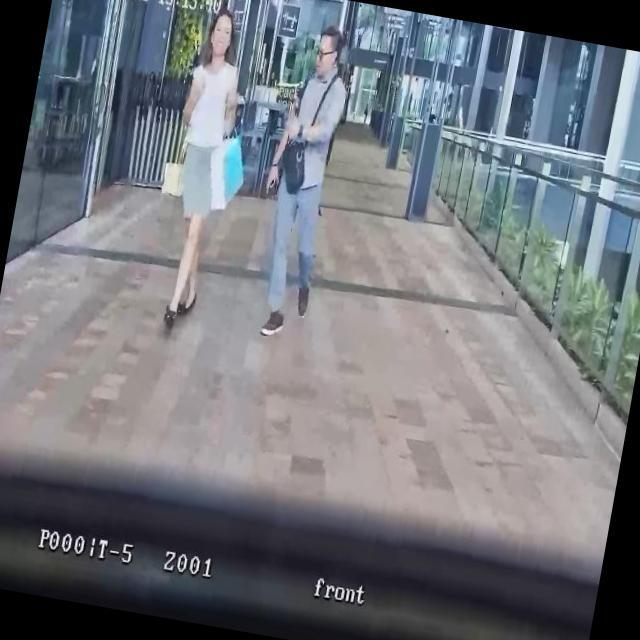person: (242, 18, 358, 340), (147, 4, 256, 330)
